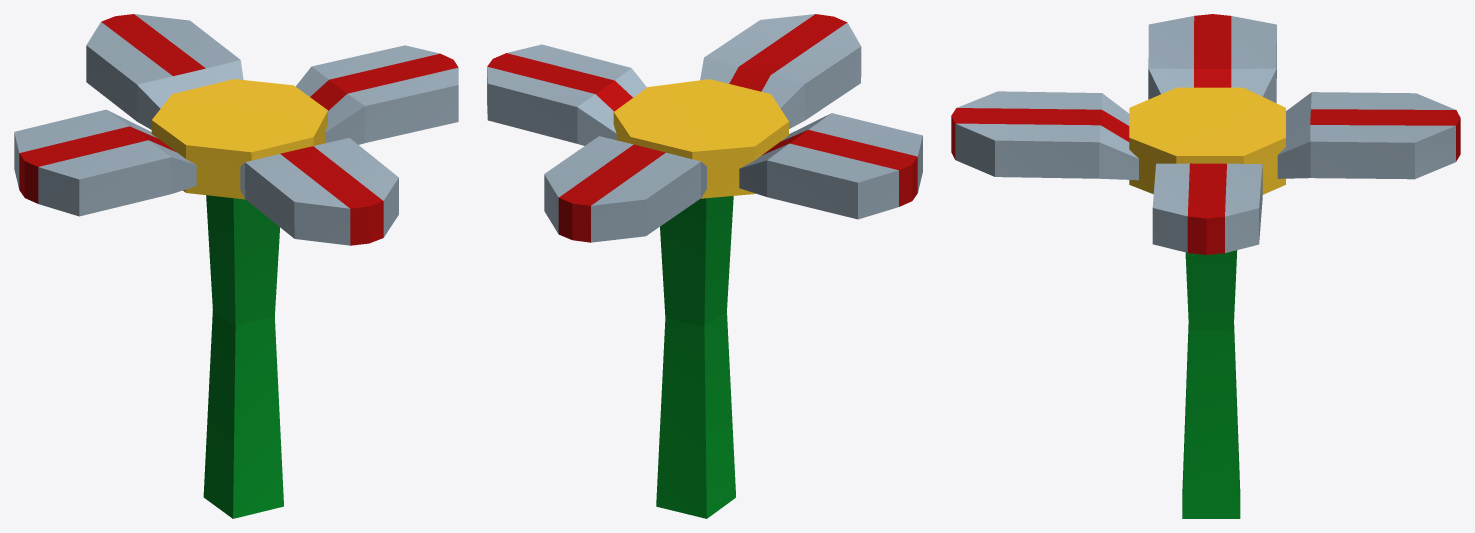
File: Flor7.fbx
3 views of the same model, side by side, from view 1: azimuth 30°, elevation 25°; view 2: azimuth 150°, elevation 25°; view 3: azimuth 270°, elevation 25° (orthographic).
Visible parts, largest first — view 1: Flor7; view 2: Flor7; view 3: Flor7.
Part boxes in pixels (left/top/right/bottom): Flor7: left=14, top=14, right=458, bottom=518; Flor7: left=487, top=14, right=922, bottom=518; Flor7: left=951, top=14, right=1460, bottom=518.
Bounding box in the file's own units: 1666 × 1754 × 1474.
